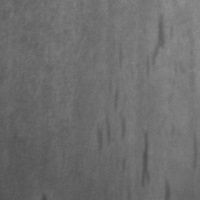inclusion: (91, 85, 131, 156), (141, 13, 172, 81), (134, 125, 158, 192), (163, 175, 175, 199)
